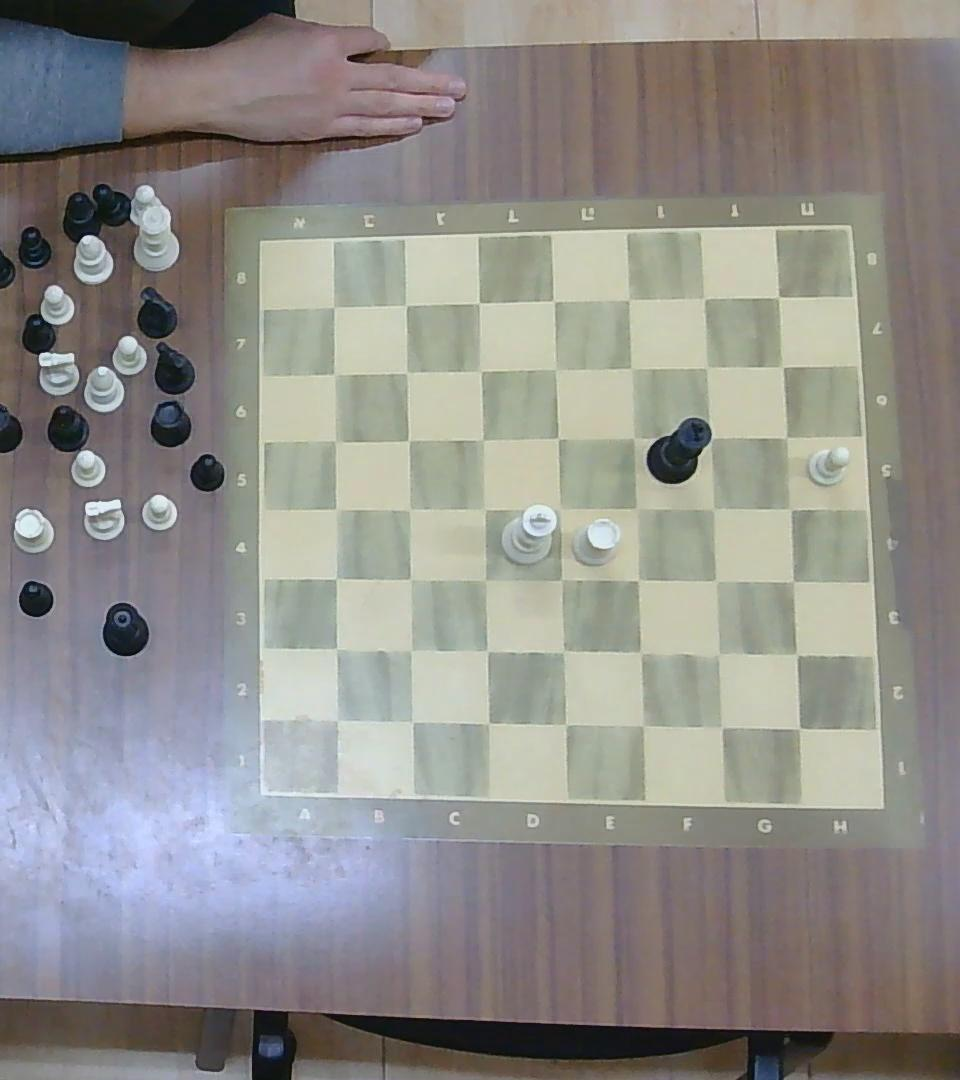xcorner: (702, 638, 734, 670), (548, 706, 579, 738), (471, 706, 502, 738), (625, 635, 656, 667), (705, 709, 736, 741), (626, 707, 657, 739), (395, 704, 425, 736), (321, 703, 351, 734), (781, 639, 812, 669), (783, 712, 813, 742), (548, 636, 578, 666), (623, 563, 652, 594), (548, 563, 577, 594), (471, 635, 501, 664), (541, 285, 570, 315), (776, 493, 805, 522), (701, 564, 730, 593), (615, 284, 644, 313), (395, 635, 424, 664), (699, 493, 728, 522), (470, 564, 499, 593), (777, 566, 806, 594), (543, 353, 571, 382), (691, 282, 719, 311), (465, 287, 493, 316), (470, 493, 498, 522), (319, 291, 348, 319), (623, 493, 651, 522), (322, 635, 350, 663), (617, 352, 645, 380), (392, 289, 419, 318), (620, 422, 647, 451), (545, 494, 574, 521), (545, 423, 573, 450), (769, 352, 797, 379), (467, 356, 495, 383), (395, 494, 423, 521), (693, 352, 721, 379), (396, 565, 423, 592), (699, 423, 726, 450), (772, 422, 800, 448), (321, 427, 349, 453), (468, 425, 494, 452), (323, 563, 349, 590), (766, 283, 792, 310), (324, 494, 350, 521), (395, 426, 421, 451), (394, 358, 420, 383), (323, 361, 348, 384)
